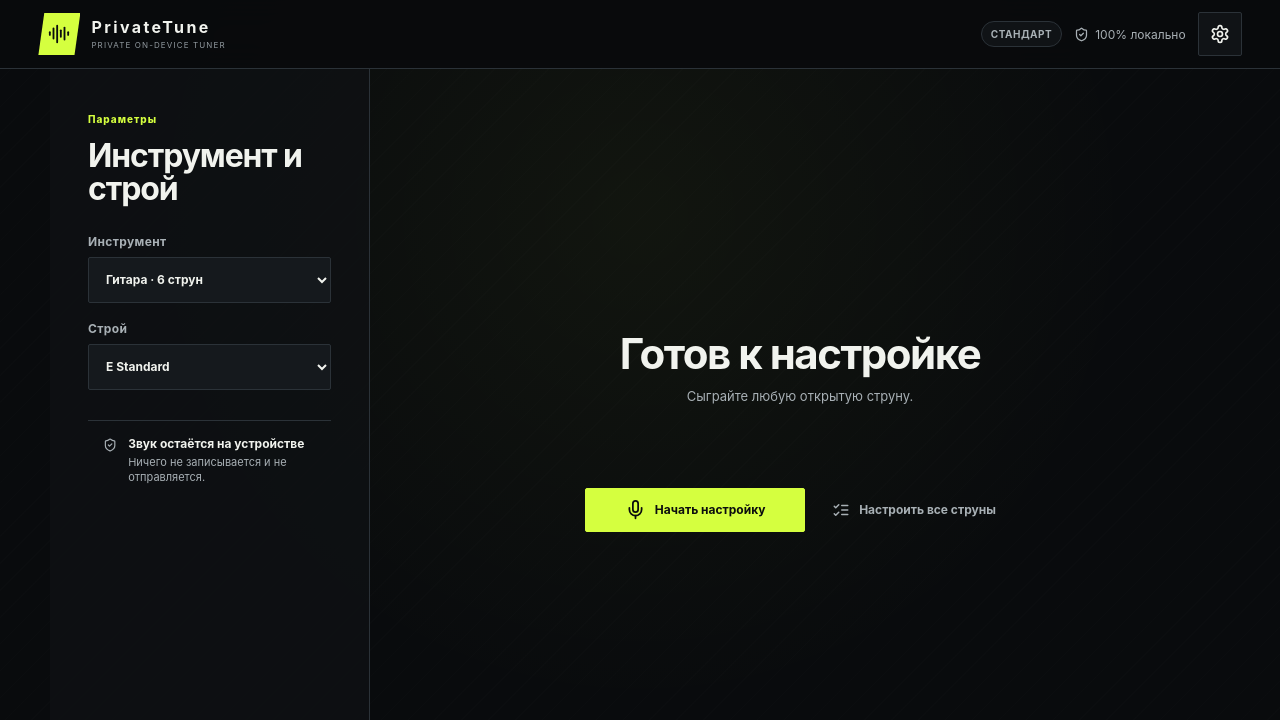
Test case: App flows › starts, publishes a deterministic reading and stops
Click the button with class "mic-button".
click(695, 510)  # box [585,488,805,532]
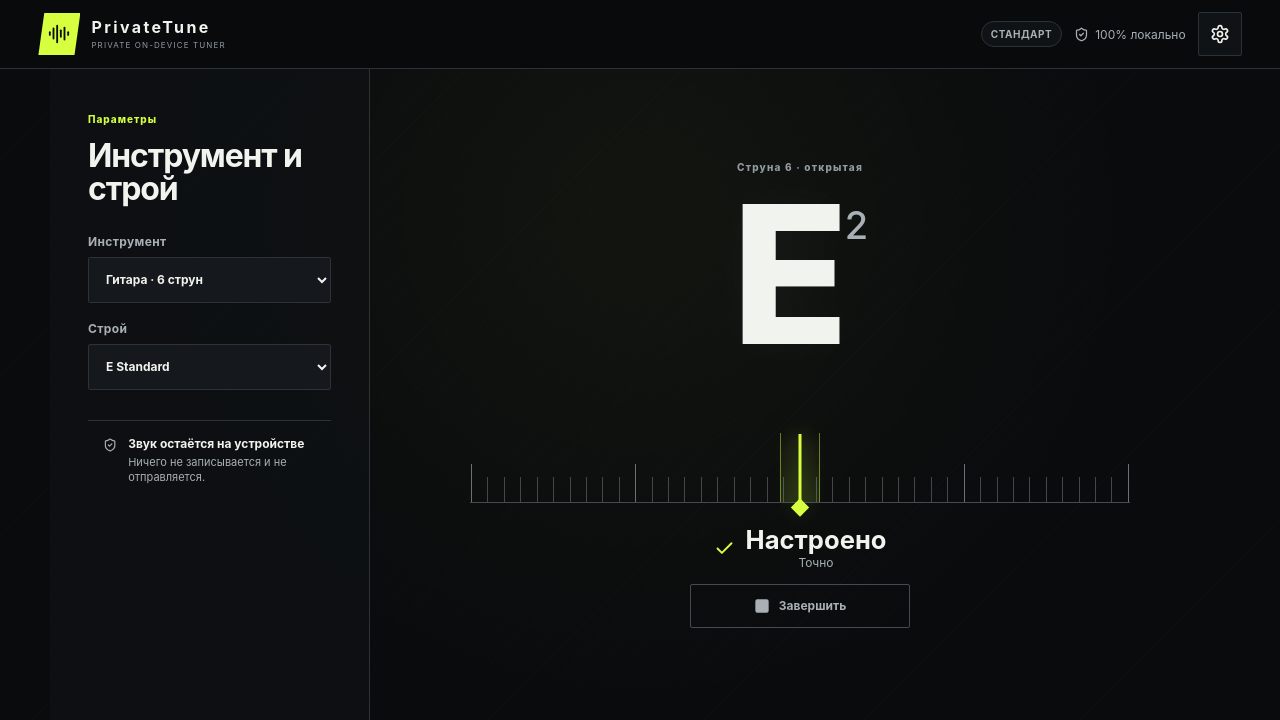
Result: the text "Настроено" is shown at [746,527,886,553]
Result: the text "Струна 6 · открытая" is shown at [737,161,863,173]
Click the button with class "stop-button".
click(800, 606)  # box [690,584,910,628]
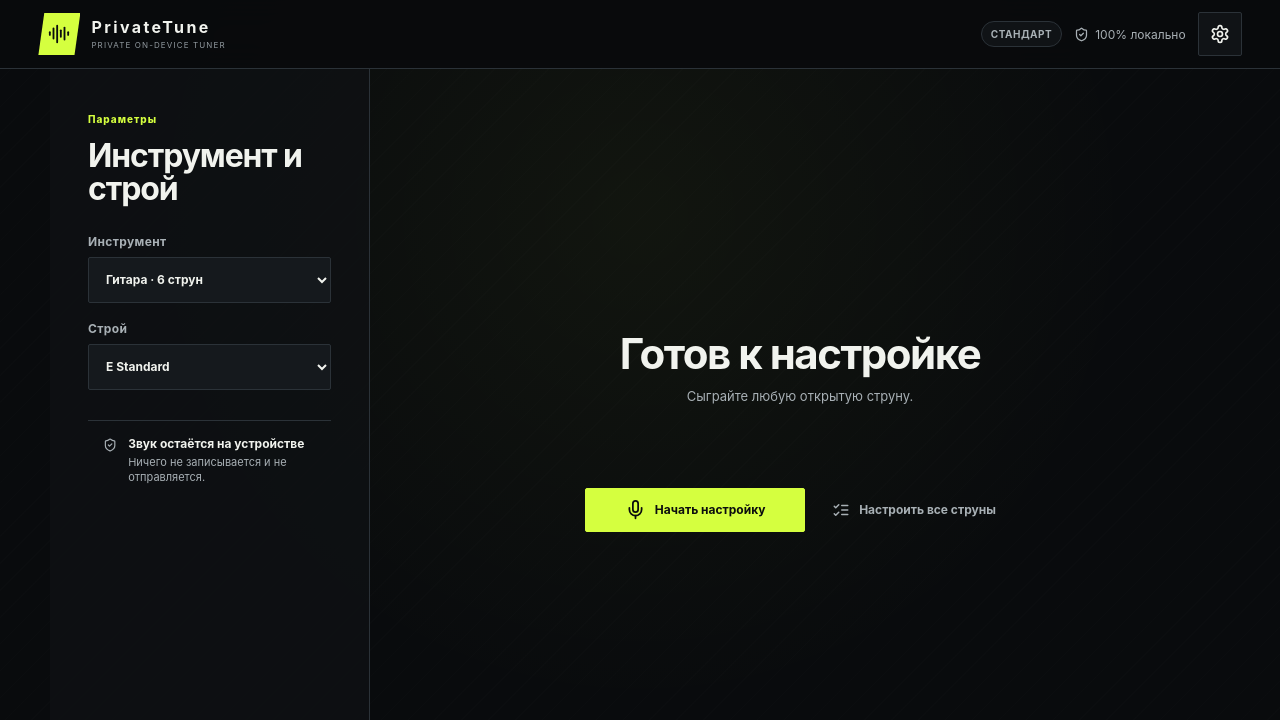
Result: the text "Готов к настройке" is shown at [620,328,980,378]
